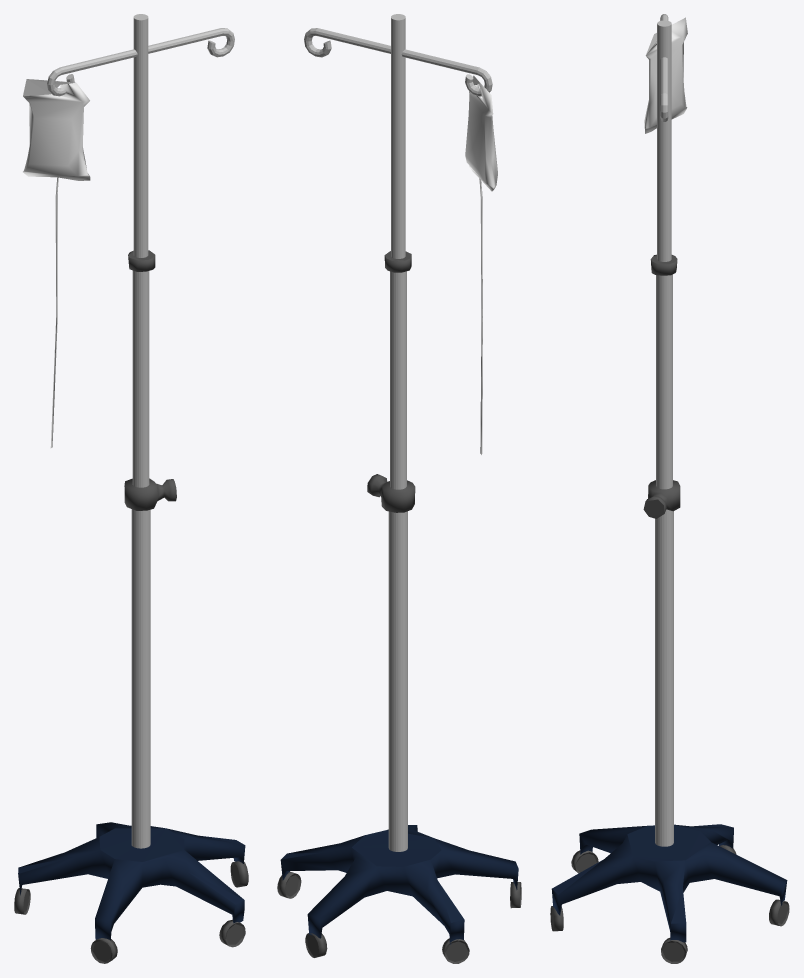
The model's file is iv_pole.dae.
3 renders of one model, left to right at view 1: azimuth 30°, elevation 25°; view 2: azimuth 150°, elevation 25°; view 3: azimuth 270°, elevation 25°, orthographic.
Parts seen in each view (by area): view 1: Cylinder032.001, Cylinder.002, ivbag, Cylinder, Cylinder.001, Cylinder034.001, Nod, Cylinder.004, Cylinder.003, pipe; view 2: Cylinder032.001, Cylinder.002, Cylinder, Cylinder.001, ivbag, Cylinder034.001, Nod, Cylinder.004, Cylinder.003, pipe; view 3: Cylinder032.001, Cylinder.002, Cylinder, Cylinder.001, ivbag, Cylinder034.001, Nod.
Boxes of the visible parts, <box> form: Cylinder032.001: <box>18,822,245,940</box>; Cylinder.002: <box>131,509,150,848</box>; ivbag: <box>23,79,90,180</box>; Cylinder: <box>132,270,149,487</box>; Cylinder.001: <box>133,14,148,257</box>; Cylinder034.001: <box>14,861,248,963</box>; Nod: <box>124,250,176,510</box>; Cylinder.004: <box>60,28,223,73</box>; Cylinder.003: <box>47,28,234,96</box>; pipe: <box>50,177,58,448</box>; Cylinder032.001: <box>280,825,518,944</box>; Cylinder.002: <box>388,511,407,851</box>; Cylinder: <box>390,271,406,489</box>; Cylinder.001: <box>391,14,405,258</box>; ivbag: <box>465,75,497,191</box>; Cylinder034.001: <box>277,871,521,963</box>; Nod: <box>367,251,415,512</box>; Cylinder.004: <box>315,28,479,73</box>; Cylinder.003: <box>304,28,492,96</box>; pipe: <box>479,178,482,454</box>; Cylinder032.001: <box>551,824,787,942</box>; Cylinder.002: <box>655,509,673,846</box>; Cylinder: <box>656,274,672,489</box>; Cylinder.001: <box>657,20,671,261</box>; ivbag: <box>644,17,687,133</box>; Cylinder034.001: <box>550,845,789,963</box>; Nod: <box>643,254,680,518</box>.
Bounding box in the file's own units: 0.433 × 0.4181 × 1.72.
